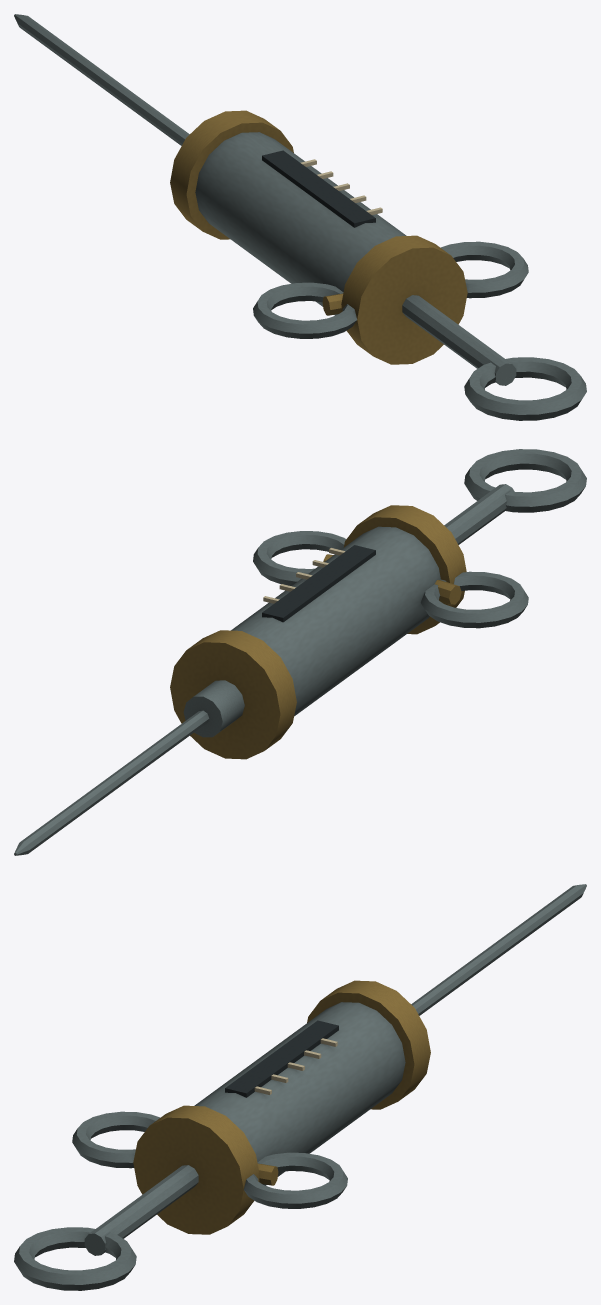
The model's file is spritz.glb.
3 views of the same model, one above another, from view 1: azimuth 30°, elevation 25°; view 2: azimuth 150°, elevation 25°; view 3: azimuth 330°, elevation 25° (orthographic).
Parts seen in each view (by area): view 1: Spritz barrel, Spritz collar, Thumb ring, Spritz collar.001, Finger ring, Spritz_Needle, Plunger shaft, Finger ring.001, Dose window; view 2: Spritz barrel, Spritz collar.001, Thumb ring, Spritz collar, Finger ring, Spritz_Needle, Dose window, Finger ring.001, Spritz nozzle, Plunger shaft; view 3: Spritz barrel, Spritz collar, Thumb ring, Spritz collar.001, Finger ring.001, Spritz_Needle, Plunger shaft, Finger ring, Dose window.
Boxes of the visible parts, bbox=[...] form: Spritz barrel: bbox=[195, 132, 406, 315]; Spritz collar: bbox=[341, 235, 467, 364]; Thumb ring: bbox=[464, 357, 586, 420]; Spritz collar.001: bbox=[170, 110, 293, 239]; Finger ring: bbox=[253, 282, 357, 338]; Spritz_Needle: bbox=[14, 14, 189, 145]; Plunger shaft: bbox=[402, 295, 516, 385]; Finger ring.001: bbox=[440, 241, 528, 298]; Dose window: bbox=[262, 150, 375, 227]; Spritz barrel: bbox=[231, 526, 440, 716]; Spritz collar.001: bbox=[170, 630, 296, 759]; Thumb ring: bbox=[464, 449, 586, 512]; Spritz collar: bbox=[343, 505, 466, 634]; Finger ring: bbox=[420, 571, 528, 628]; Spritz_Needle: bbox=[14, 710, 209, 855]; Dose window: bbox=[262, 545, 375, 622]; Finger ring.001: bbox=[253, 531, 346, 585]; Spritz nozzle: bbox=[183, 680, 244, 737]; Plunger shaft: bbox=[444, 484, 514, 544]; Spritz barrel: bbox=[194, 1002, 405, 1185]; Spritz collar: bbox=[133, 1105, 259, 1234]; Thumb ring: bbox=[14, 1227, 136, 1290]; Spritz collar.001: bbox=[307, 980, 430, 1109]; Finger ring.001: bbox=[243, 1152, 347, 1208]; Spritz_Needle: bbox=[411, 884, 586, 1015]; Plunger shaft: bbox=[84, 1165, 198, 1255]; Finger ring: bbox=[72, 1111, 160, 1168]; Dose window: bbox=[225, 1020, 338, 1097].
Bounding box in the file's own units: 0.147 × 0.062 × 0.526.
Materials: 1 (1 with a texture image).
